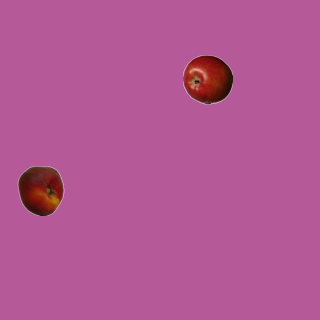Apple Braeburn: (182, 54, 232, 104)
Nectarine Flat: (15, 165, 65, 215)
